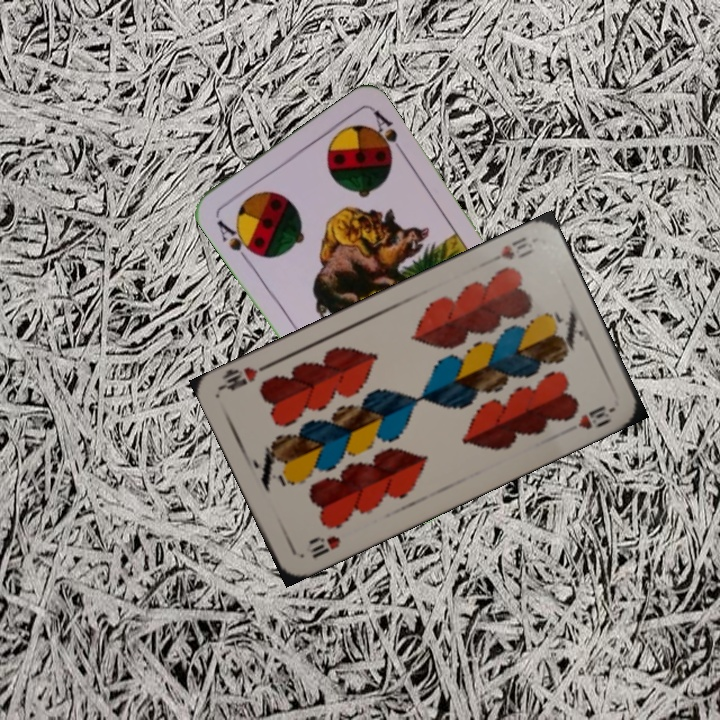H10: (305, 531, 343, 562), (497, 233, 536, 262)
SA: (212, 216, 260, 265)
